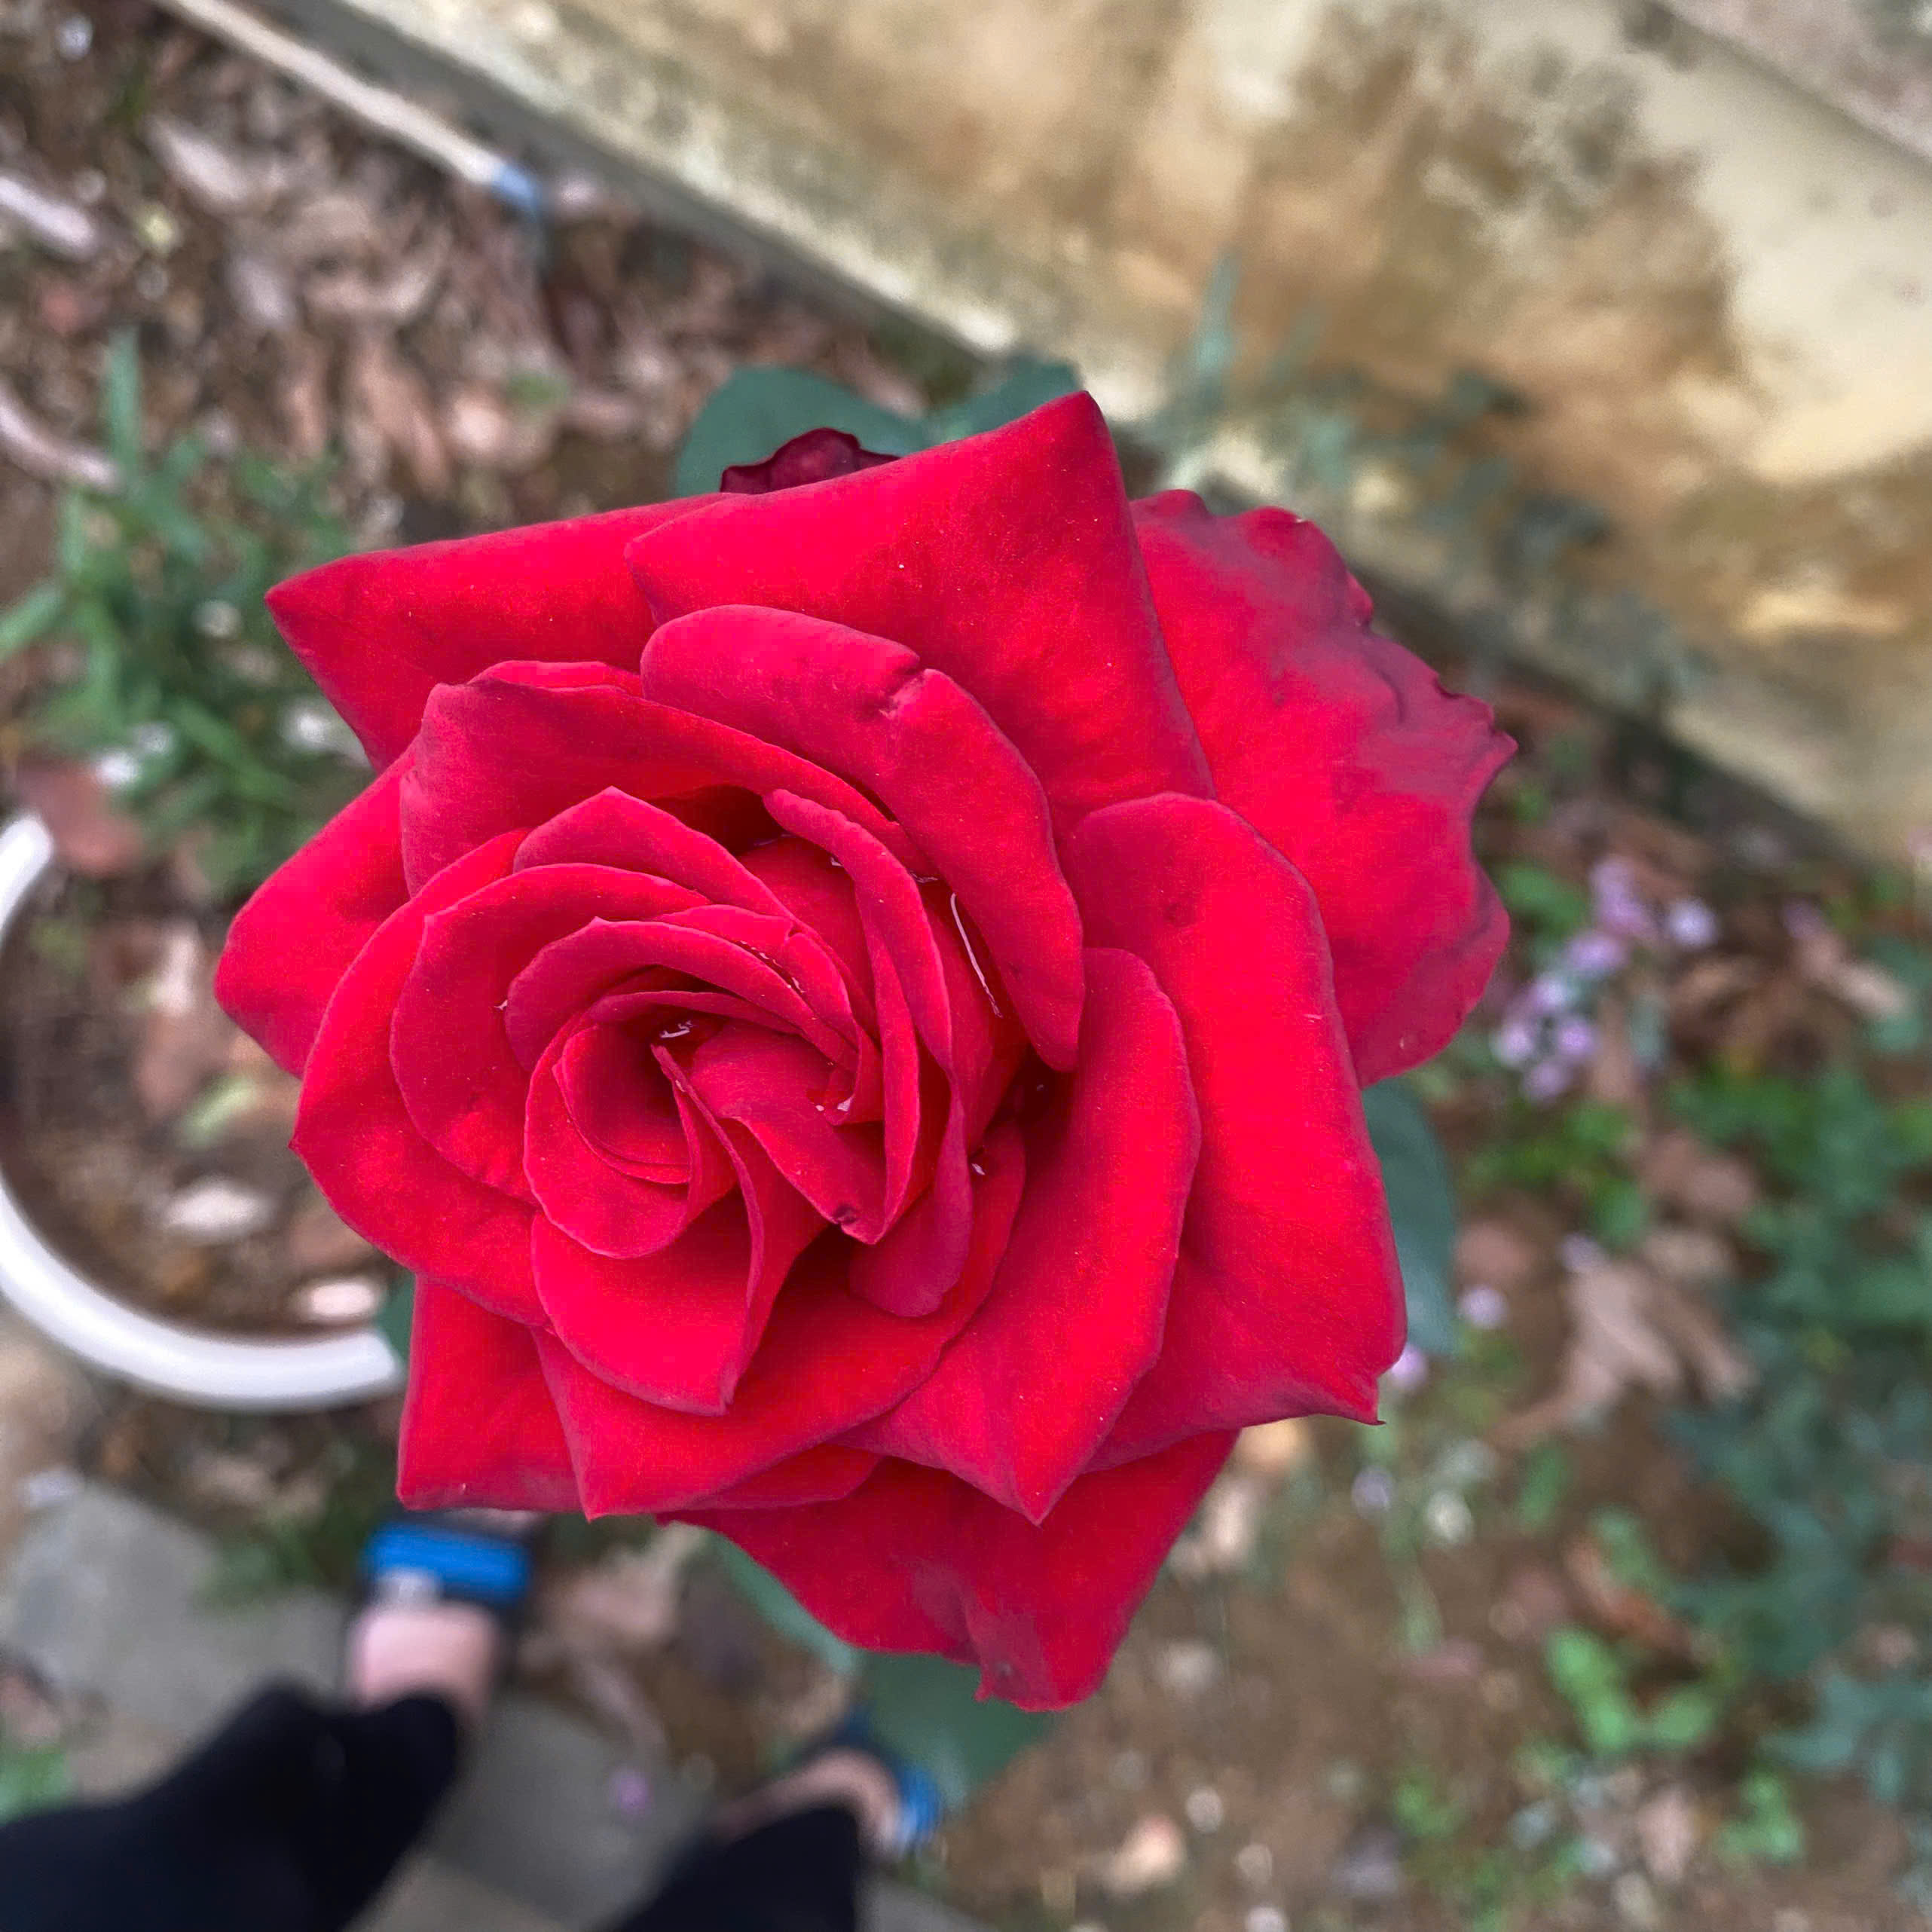hoa_hong_do: (127, 336, 1615, 1741)
